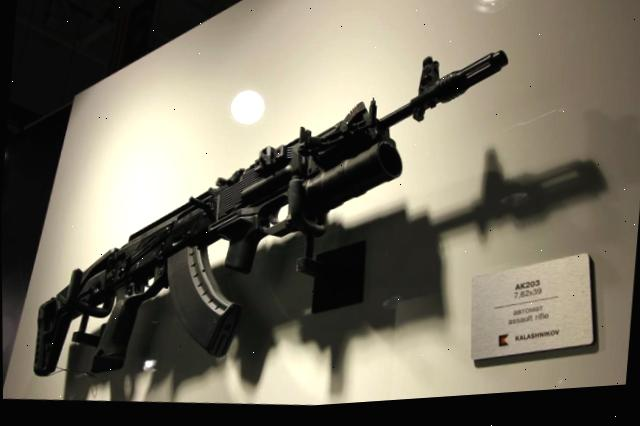rifle: (15, 7, 517, 425)
